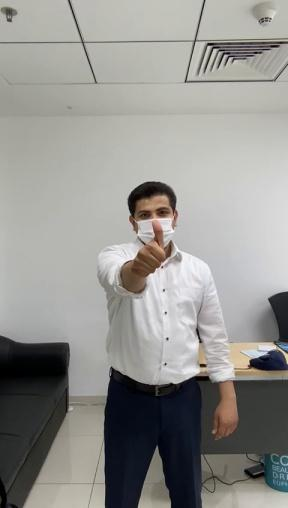thumbs-up: (132, 219, 168, 277)
